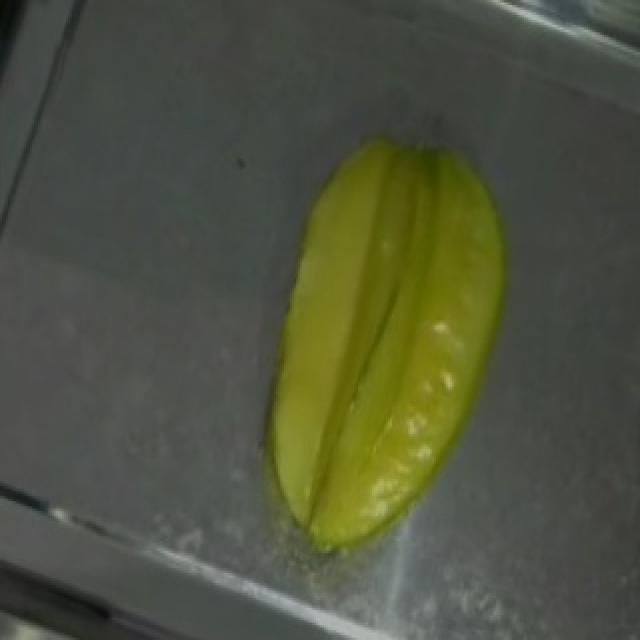fruit: (218, 90, 594, 548)
